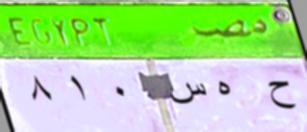0: (107, 77, 138, 102)
1: (66, 68, 93, 110)
7aa: (262, 75, 301, 118)
8: (22, 70, 55, 110)
haa: (212, 80, 237, 108)
seen: (165, 78, 208, 110)
